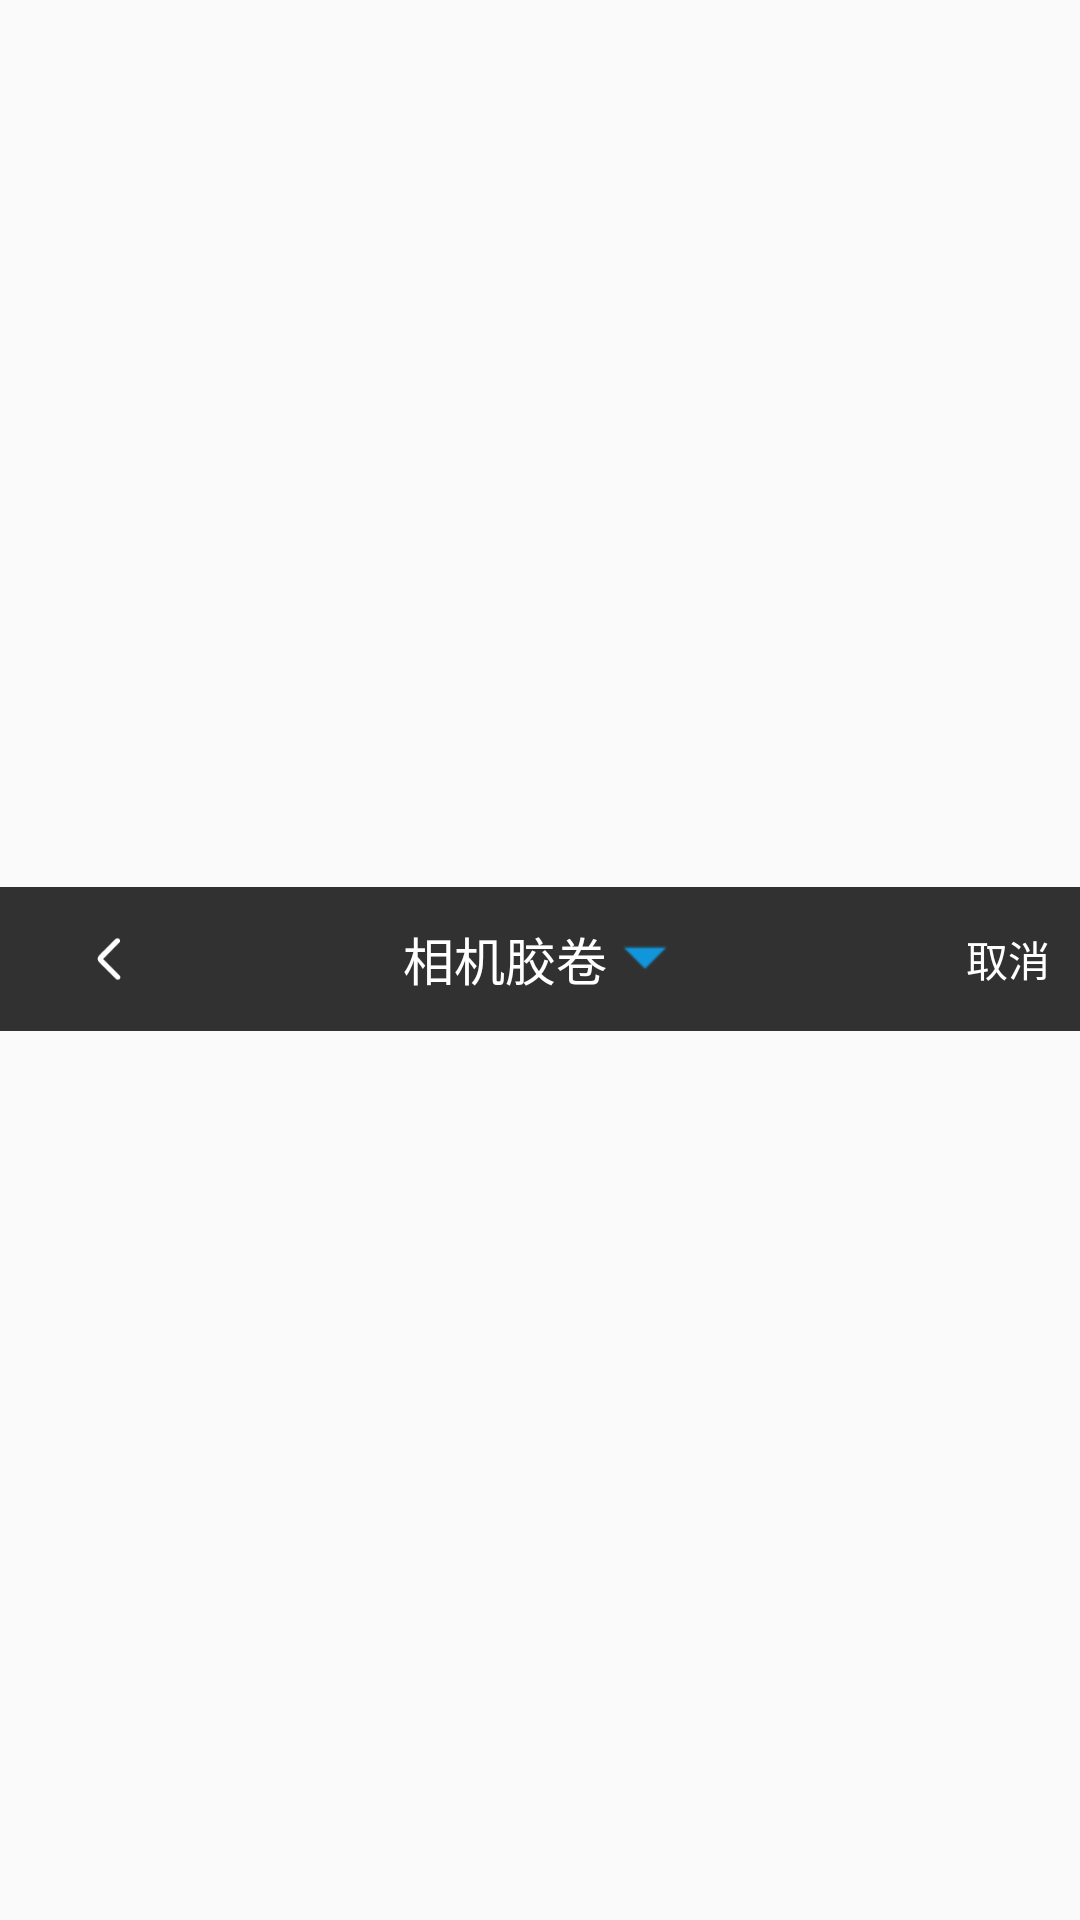

Named icons in this screenshot (1080px x 1920px) and their bounding boxes, (x1, y1, x2, y2):
back: (0, 887, 218, 1031)
